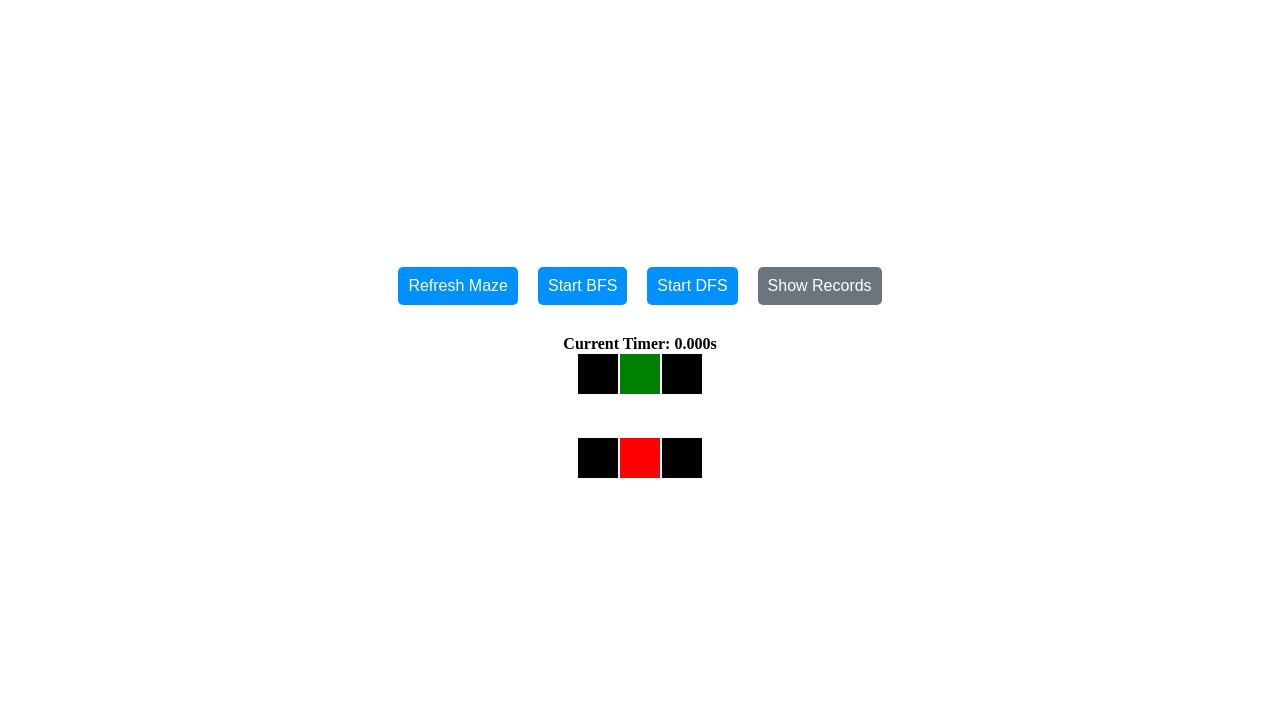
Scenario: MazeGrid Integration › shows and hides records table
The image size is (1280, 720).
Expected: the text "Session Records" is not shown
# Show records
Click the button "Show Records" at (820, 286), box [758,267,882,305]
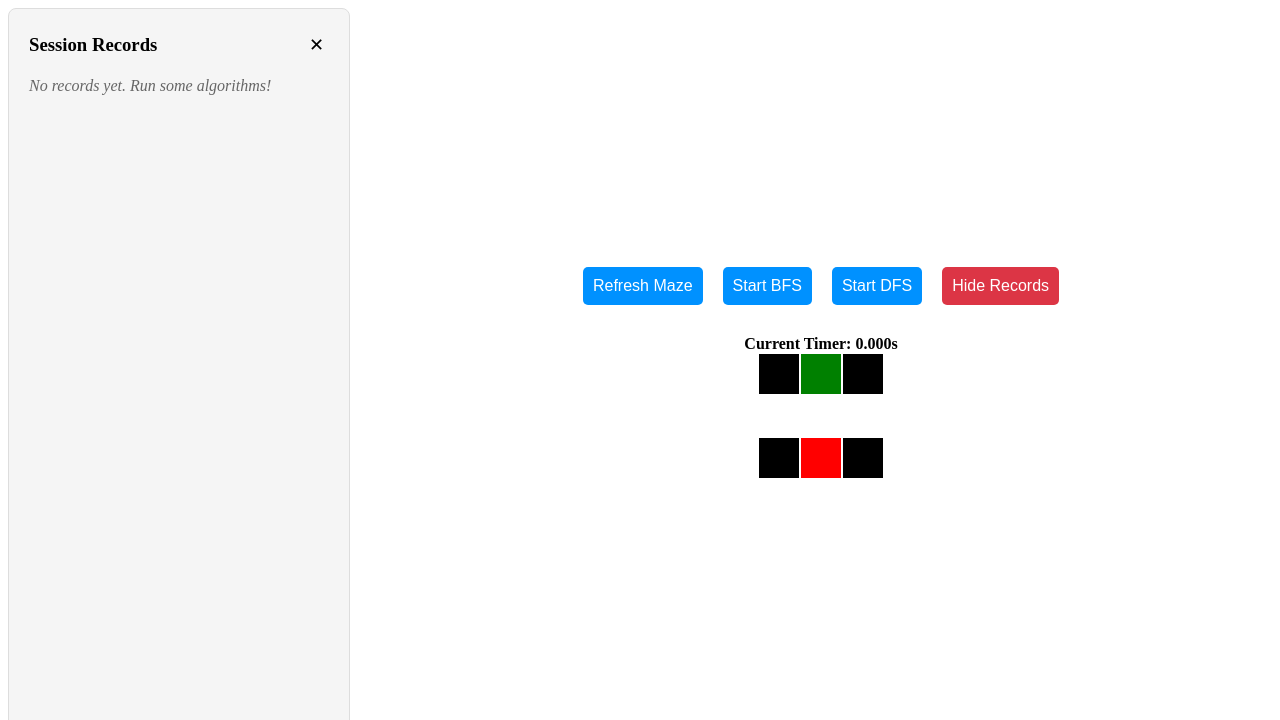
Now the heading "Session Records" is shown, box [29,34,157,56]
Now the button "Hide Records" is shown
# Hide records
Click the button "Hide Records" at (1001, 286), box [942,267,1059,305]
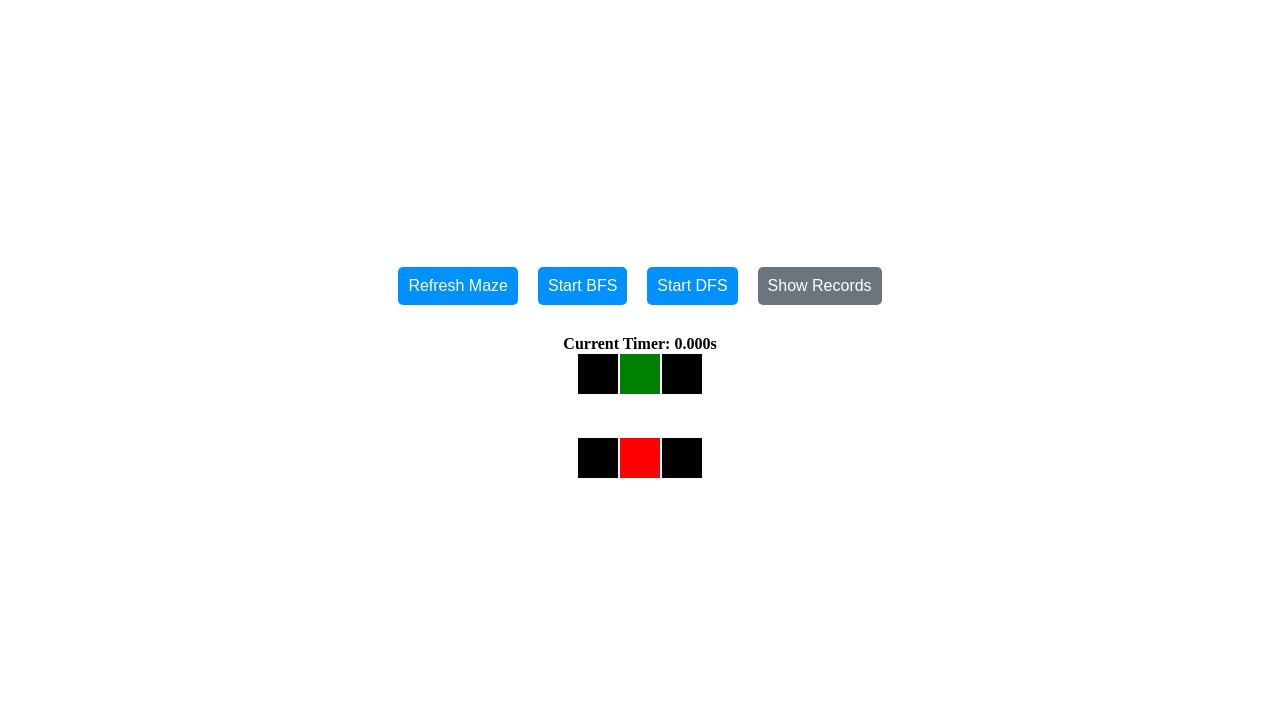
Now the heading "Session Records" is gone
Now the button "Show Records" is shown, box [758,267,882,305]
